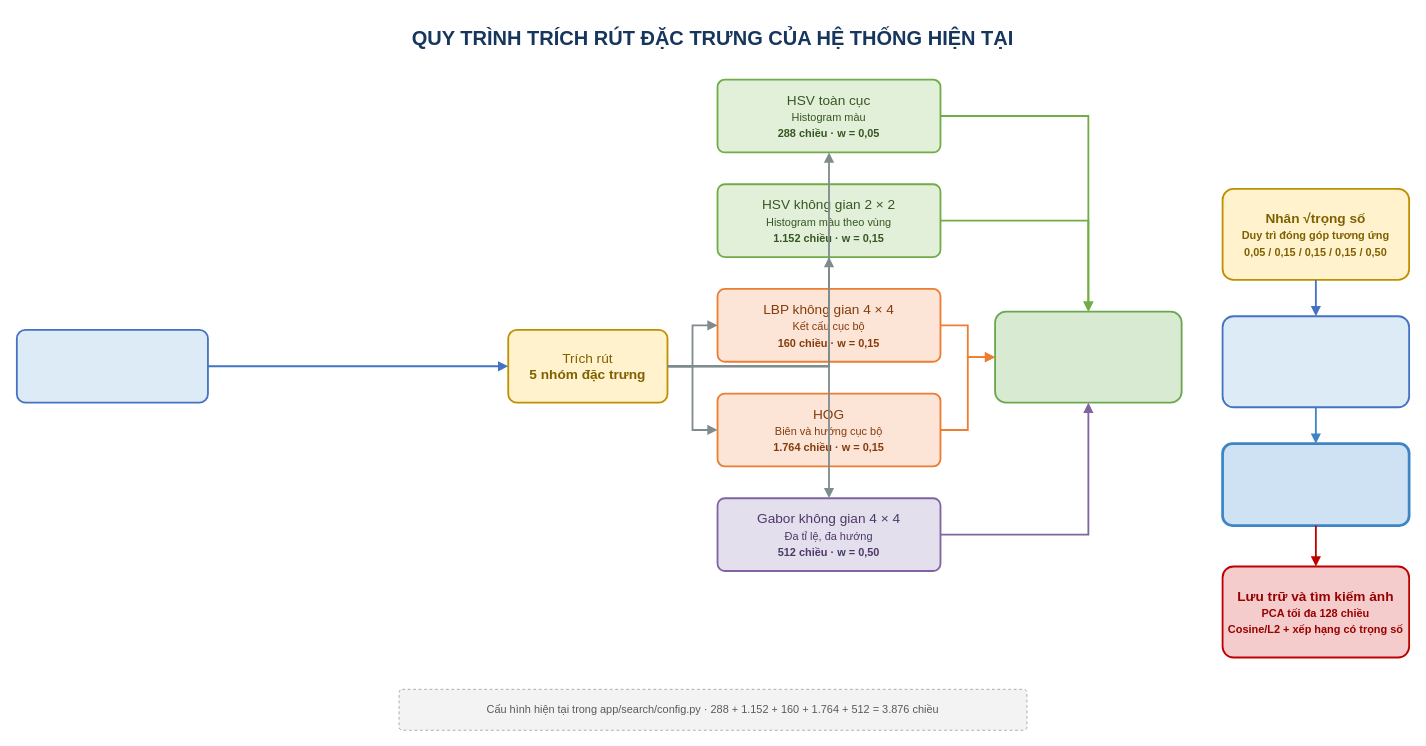
This 1426x746 diagram has some shape labels left out. Here are the shapes that lost their labels. From the top down, the box of each, then its label:
(15, 329, 208, 403): Ảnh RGBA đã tiền xử lý 512 × 512, nền trong suốt
(994, 310, 1182, 403): Chuẩn hóa L2 Chuẩn hóa riêng từng nhóm Kiểm tra norm và giá trị hợp lệ
(1221, 315, 1410, 408): Ghép nối vector HSV toàn cục → HSV không gian → LBP → HOG → Gabor
(1221, 442, 1410, 526): VECTOR HỢP NHẤT 3.876 chiều
